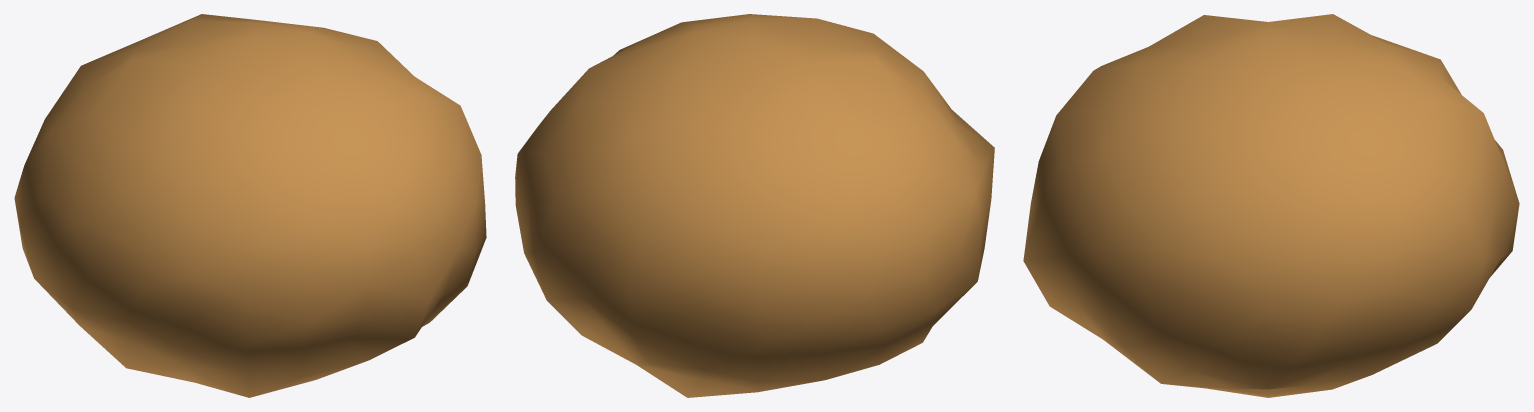
The model's file is slicked_back.glb.
The picture shows the model from 3 angles, left to right: view 1: azimuth 30°, elevation 25°; view 2: azimuth 150°, elevation 25°; view 3: azimuth 270°, elevation 25°; orthographic projection. The views are drawn at different scales.
Parts seen in each view (by area): view 1: world; view 2: world; view 3: world.
Part boxes in pixels (x1,y1,x2,y2): world: (14, 14, 486, 397); world: (515, 14, 994, 397); world: (1023, 14, 1519, 397).
Size of the model in its own units: 19.88 by 15.06 by 20.16.
